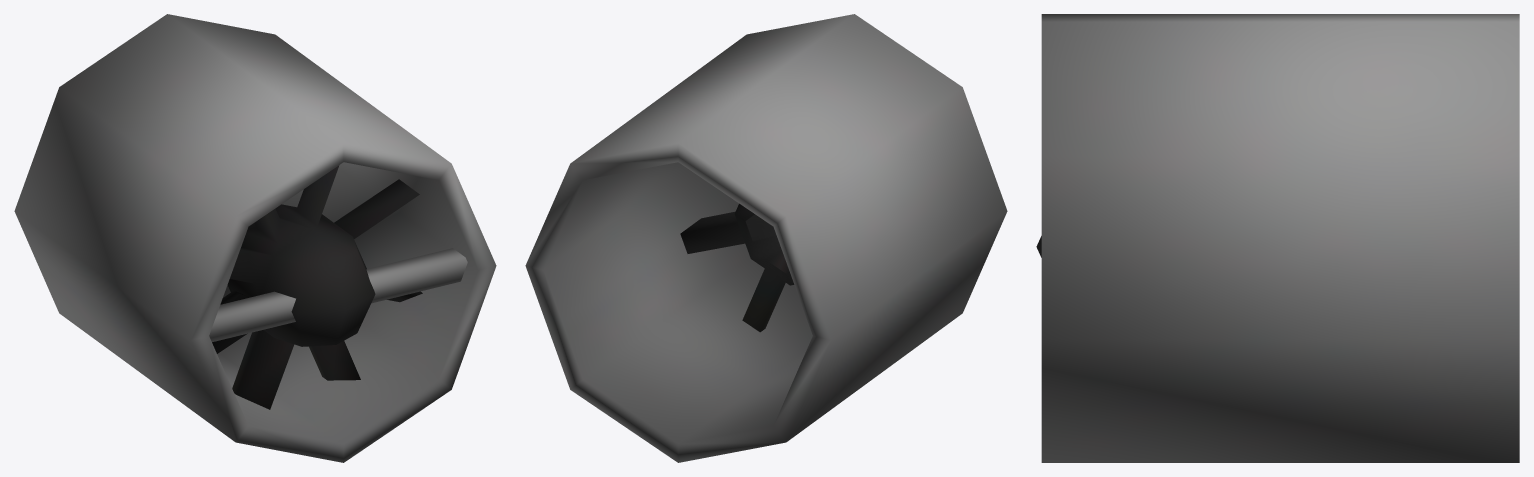
The model's file is VentoinhaRetaEng.fbx.
3 views of the same model, side by side, from view 1: azimuth 30°, elevation 25°; view 2: azimuth 150°, elevation 25°; view 3: azimuth 270°, elevation 25° (orthographic). The views are drawn at different scales.
Visible parts, largest first — view 1: VentoinhaRetaEng; view 2: VentoinhaRetaEng; view 3: VentoinhaRetaEng.
Boxes of the visible parts, bbox=[...] form: VentoinhaRetaEng: bbox=[14, 14, 496, 462]; VentoinhaRetaEng: bbox=[525, 14, 1007, 462]; VentoinhaRetaEng: bbox=[1036, 14, 1519, 462].
Bounding box in the file's own units: 56.89 × 56.89 × 57.53.
Materials: 1 (1 with a texture image).
